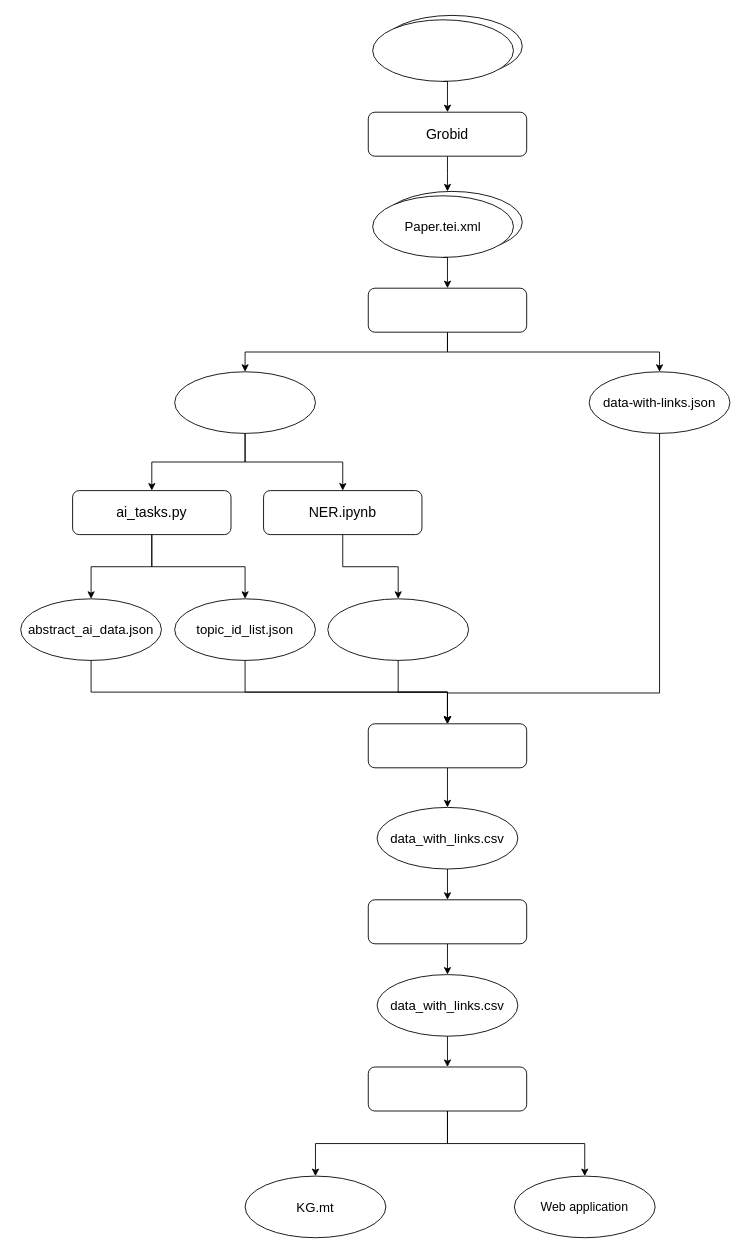
The diagram is 748 pixels wide and 1253 high, and some of its shapes have lost their labels. Here are the shapes that lost their labels. From the top down, the centre of each, then its label:
At point (442, 50): "Paper.pdf".
At point (447, 309): "Preprocessing.py".
At point (244, 402): "extracted.json".
At point (398, 629): "acknowledgement_triple.json".
At point (447, 745): "generate_csv.py".
At point (447, 921): "Data correcction and analysis".
At point (447, 1088): "main.py".
